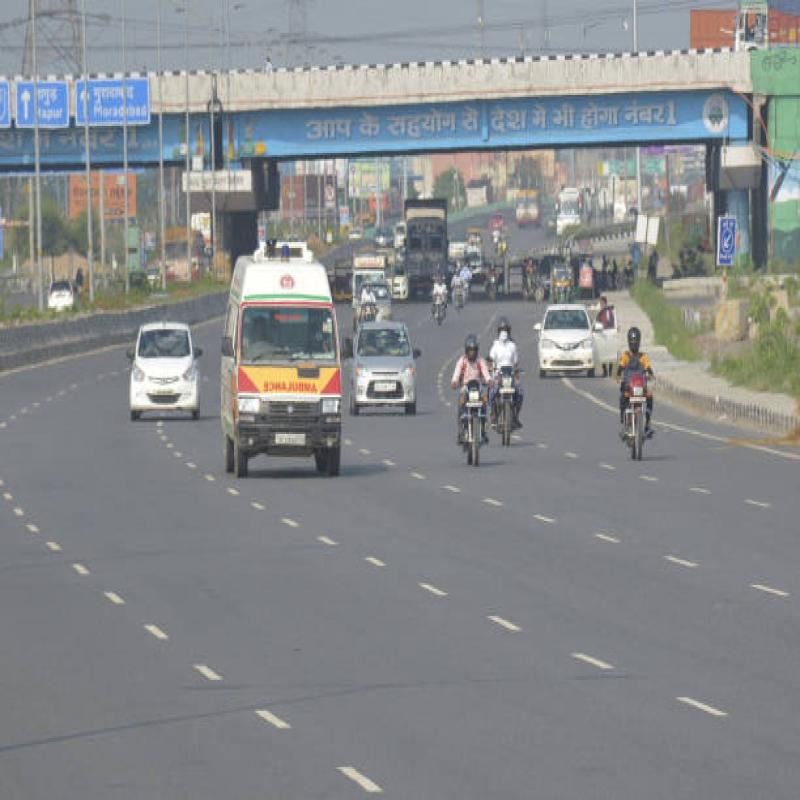ambulance: (222, 239, 348, 487)
bike: (613, 386, 664, 469), (448, 378, 488, 465), (497, 365, 523, 452)
car: (120, 308, 210, 420), (353, 312, 428, 423), (530, 299, 594, 370)
